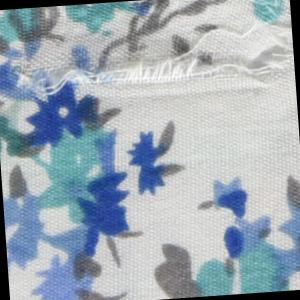Damage: (5, 5, 298, 117)
